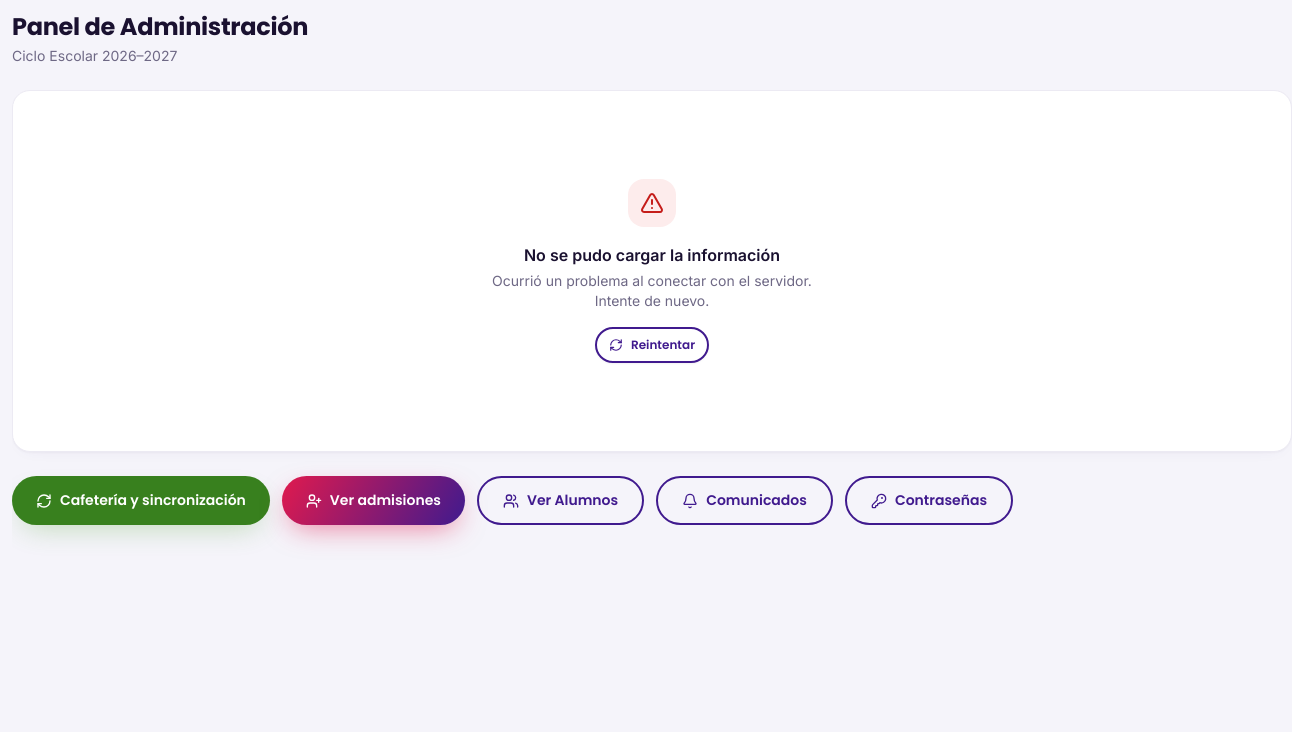
Test: AdminDashboard › shows ErrorState with retry when the dashboard fails to load
Expected: the text "No se pudo cargar la información" is shown, [524,243,780,267]
Expected: the text "Avisos Recientes" is not shown
Click the button "Reintentar": (652,345) [595,327,709,363]
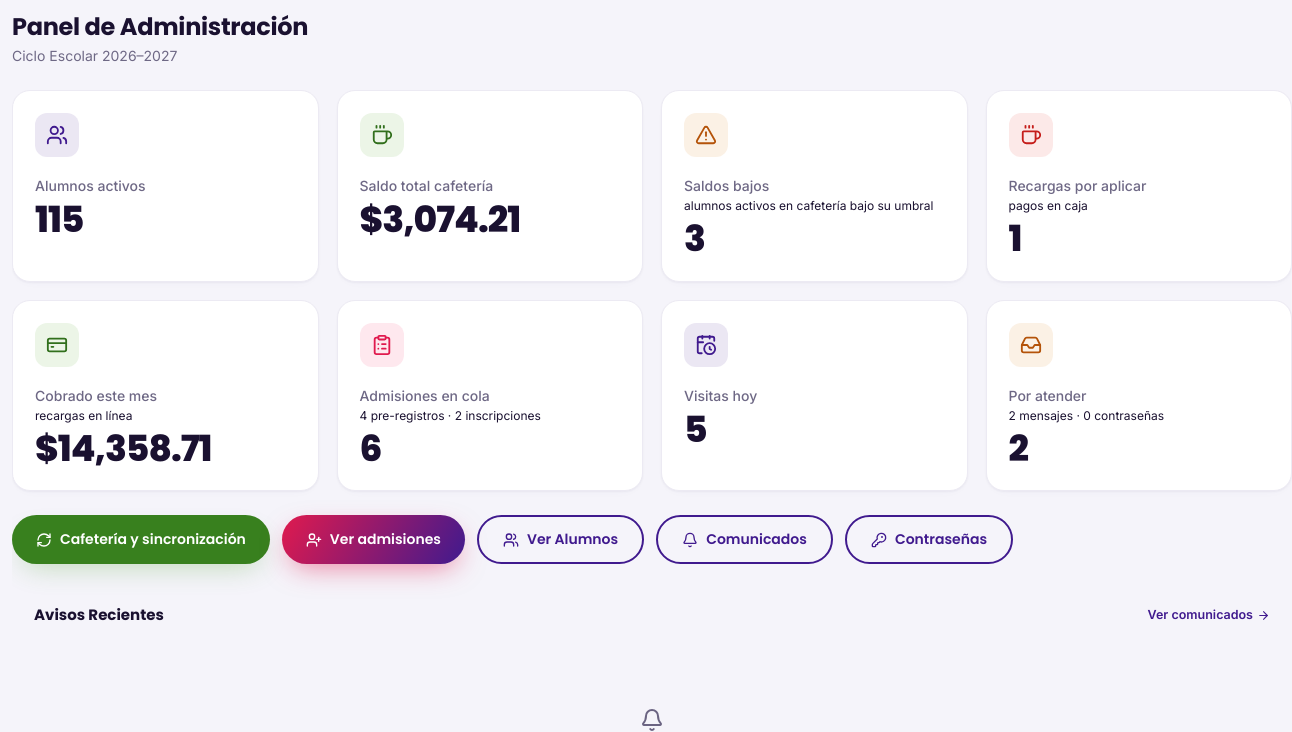
Now the text "Alumnos activos" is shown, box [35,177,146,194]
